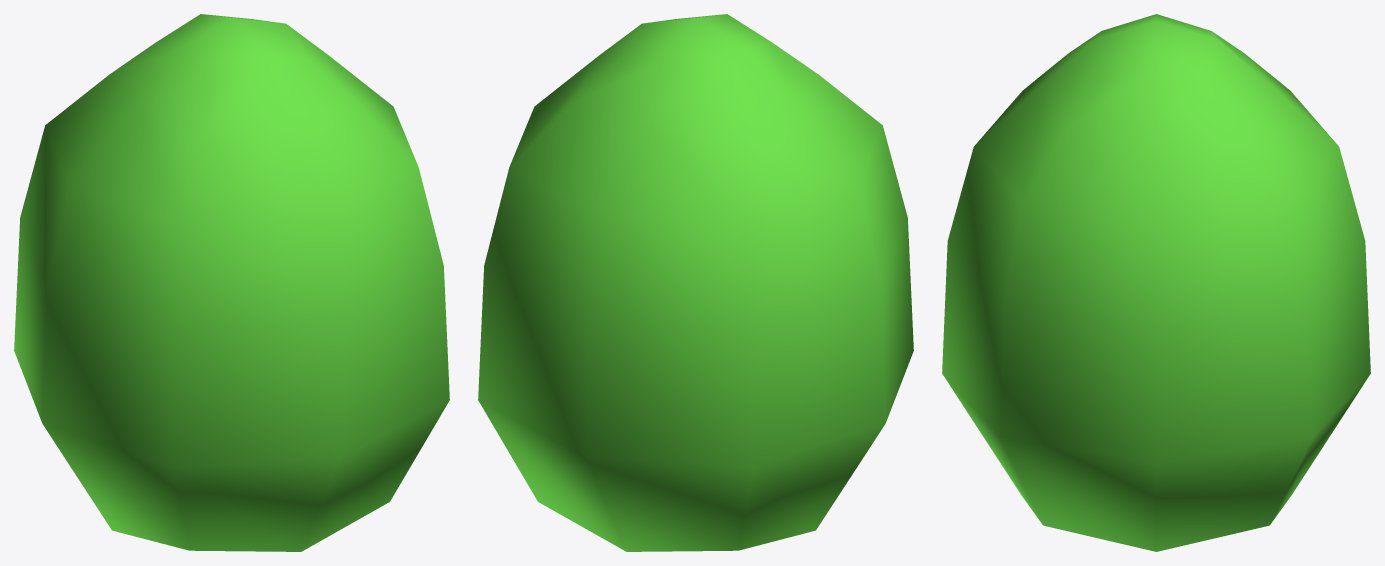
File: Prop_Bush_01.fbx
The picture shows the model from 3 angles, left to right: view 1: azimuth 30°, elevation 25°; view 2: azimuth 150°, elevation 25°; view 3: azimuth 270°, elevation 25°; orthographic projection. The views are drawn at different scales.
Parts seen in each view (by area): view 1: Prop_Bush_01; view 2: Prop_Bush_01; view 3: Prop_Bush_01.
Boxes of the visible parts, x1,y1,x2,y2 form: Prop_Bush_01: (14,14,449,551); Prop_Bush_01: (478,14,913,551); Prop_Bush_01: (942,14,1370,551).
Size of the model in its own units: 127 by 155 by 127.
